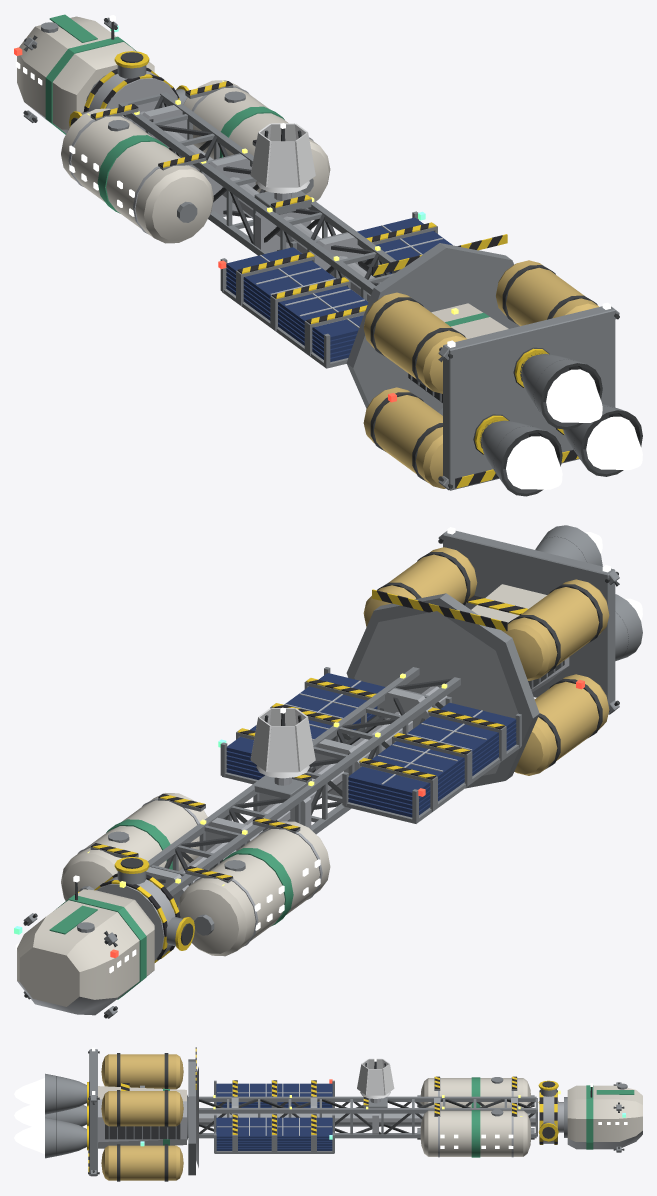
File: colony_ship.glb
3 renders of one model, top to bottom at view 1: azimuth 30°, elevation 25°; view 2: azimuth 150°, elevation 25°; view 3: azimuth 270°, elevation 25°, orthographic. The views are drawn at different scales.
Visible parts, largest first — view 1: colony_drive, colony_hull, module_hab_1, module_wing_l, engine_glow, module_dish, module_wing_r; view 2: colony_hull, colony_drive, module_hab_1, module_wing_l, module_wing_r, module_dish; view 3: colony_drive, colony_hull, module_hab_1, module_wing_r, module_wing_l, engine_glow, module_dish.
Part boxes in pixels (<box>): colony_drive: <box>363,260,642,496</box>; colony_hull: <box>14,14,519,412</box>; module_hab_1: <box>61,80,330,243</box>; module_wing_l: <box>218,241,368,368</box>; engine_glow: <box>506,369,642,489</box>; module_dish: <box>250,123,315,214</box>; module_wing_r: <box>357,211,452,277</box>; colony_hull: <box>14,589,539,1018</box>; colony_drive: <box>363,525,642,775</box>; module_hab_1: <box>61,793,330,956</box>; module_wing_l: <box>342,696,521,823</box>; module_wing_r: <box>218,667,385,784</box>; module_dish: <box>250,707,315,798</box>; colony_drive: <box>45,1047,188,1181</box>; colony_hull: <box>188,1047,642,1175</box>; module_hab_1: <box>417,1076,534,1157</box>; module_wing_r: <box>214,1114,334,1153</box>; module_wing_l: <box>214,1079,334,1107</box>; engine_glow: <box>14,1078,44,1154</box>; module_dish: <box>357,1058,394,1108</box>.
Size of the model in its own units: 7.9 by 7.35 by 36.7.
